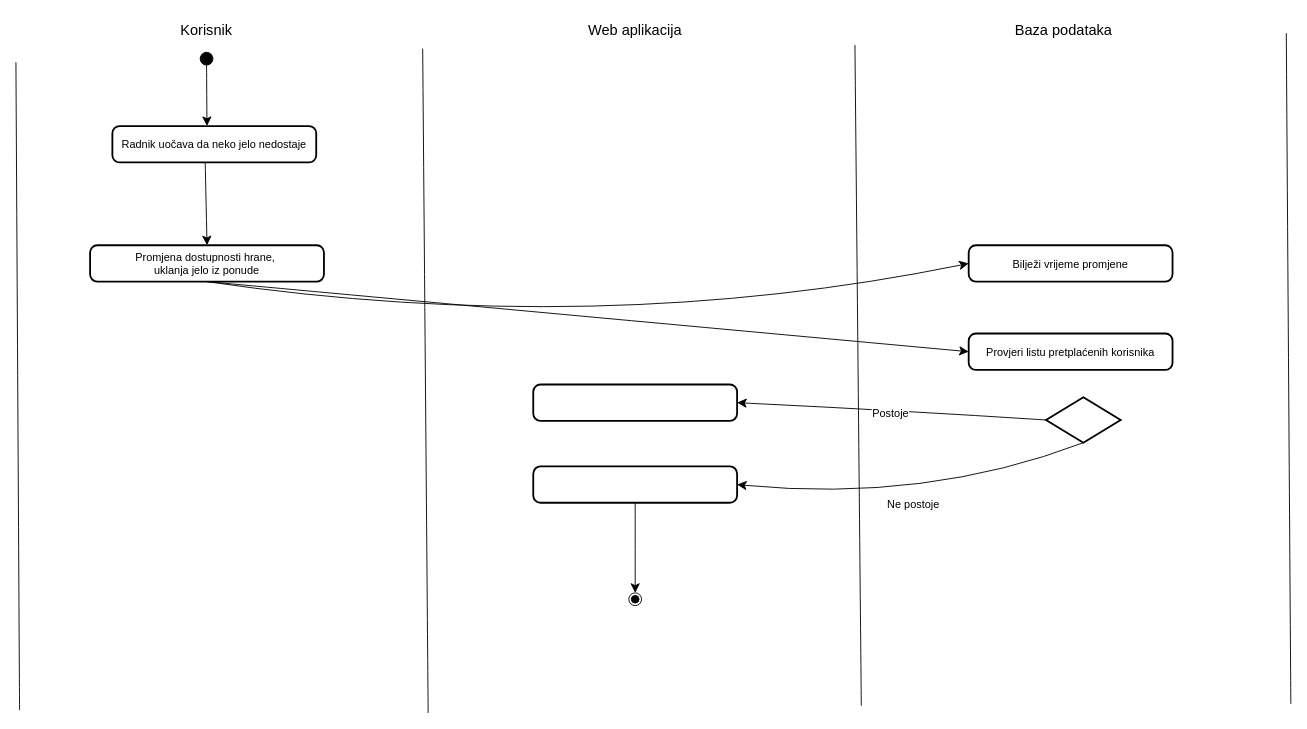
The diagram is 1307 pixels wide and 729 high, and some of its shapes have lost their labels. Here are the shapes that lost their labels. From the top down, the centre of each, then its label:
point 635,402: Šalji zahtjev Firebase Cloud Messagingu za slanje notifikacije
point 635,484: Prikaz ponude bez uklonjenog jela
